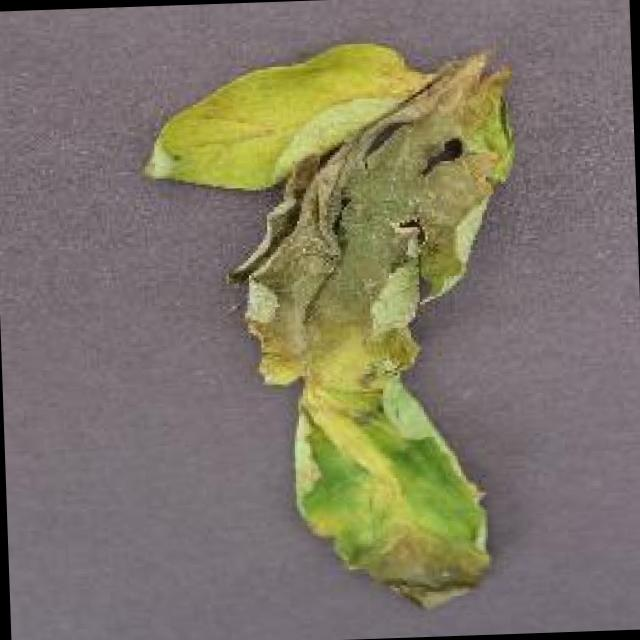Tomato_Late_Blight: (232, 78, 516, 390), (353, 479, 499, 619)
